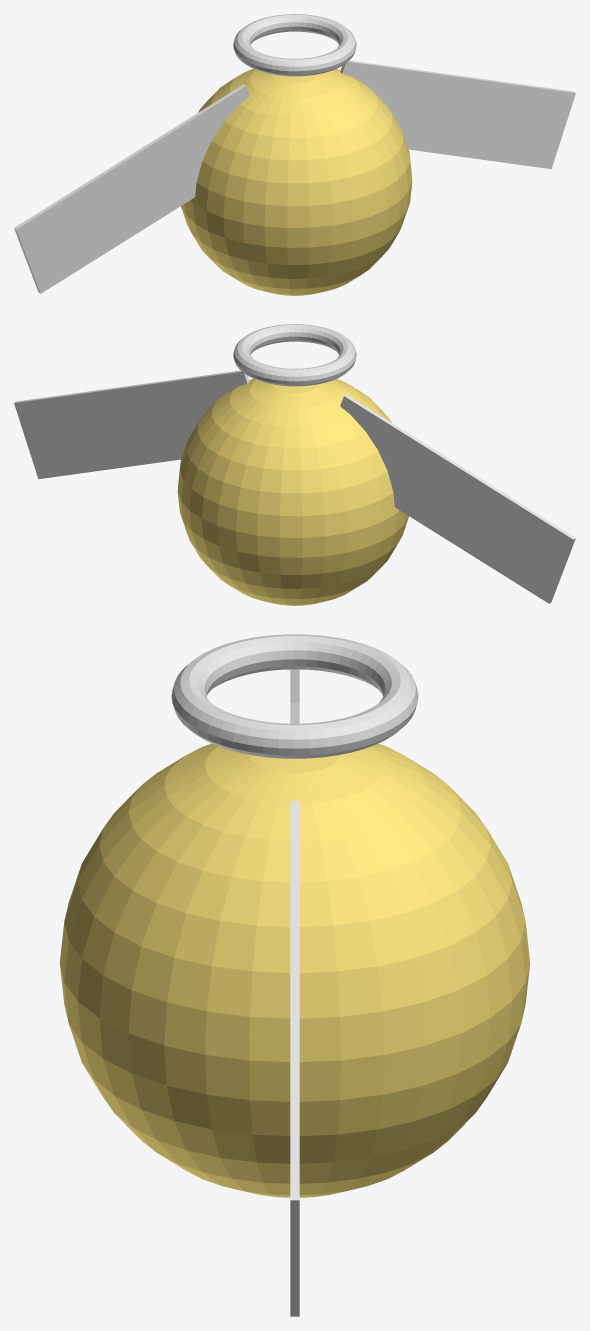
Rendered from golden_snitch.glb.
The picture shows the model from 3 angles, top to bottom: view 1: azimuth 30°, elevation 25°; view 2: azimuth 150°, elevation 25°; view 3: azimuth 270°, elevation 25°; orthographic projection. The views are drawn at different scales.
Visible parts, largest first — view 1: snitch_body, wing2, wing1, silver_ring; view 2: snitch_body, wing2, wing1, silver_ring; view 3: snitch_body, silver_ring, wing1.
Part boxes in pixels (x1=…): snitch_body: x1=181, y1=68, x2=412, y2=295; wing2: x1=14, y1=84, x2=249, y2=293; wing1: x1=340, y1=60, x2=575, y2=169; silver_ring: x1=233, y1=14, x2=356, y2=76; snitch_body: x1=177, y1=378, x2=408, y2=605; wing2: x1=340, y1=394, x2=575, y2=603; wing1: x1=14, y1=370, x2=249, y2=479; silver_ring: x1=233, y1=324, x2=356, y2=386; snitch_body: x1=59, y1=743, x2=530, y2=1197; silver_ring: x1=171, y1=634, x2=418, y2=758; wing1: x1=290, y1=801, x2=299, y2=1316.
Bounding box in the file's own units: 0.2198 × 0.093 × 0.08.
